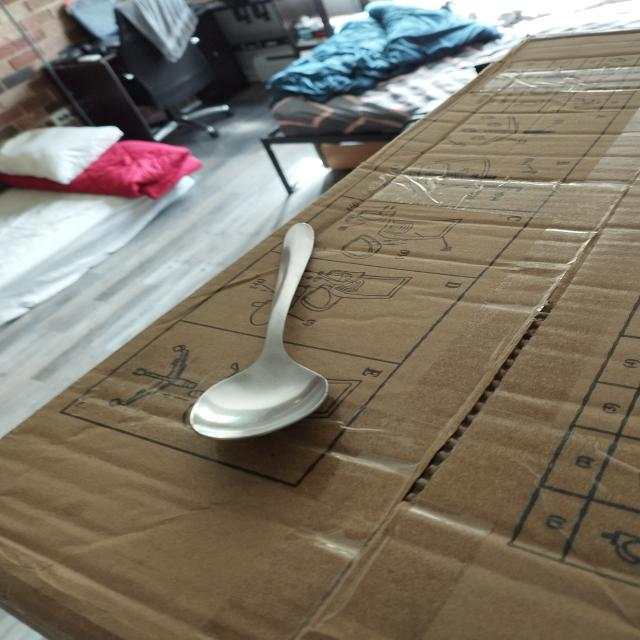Spoon: (170, 215, 361, 451)
